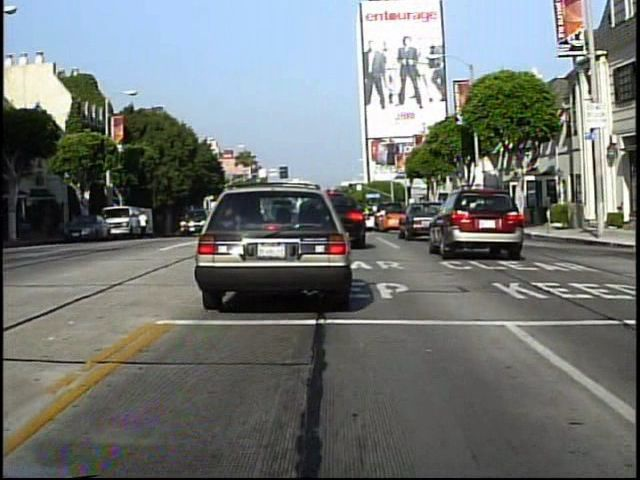person: (138, 208, 151, 242)
